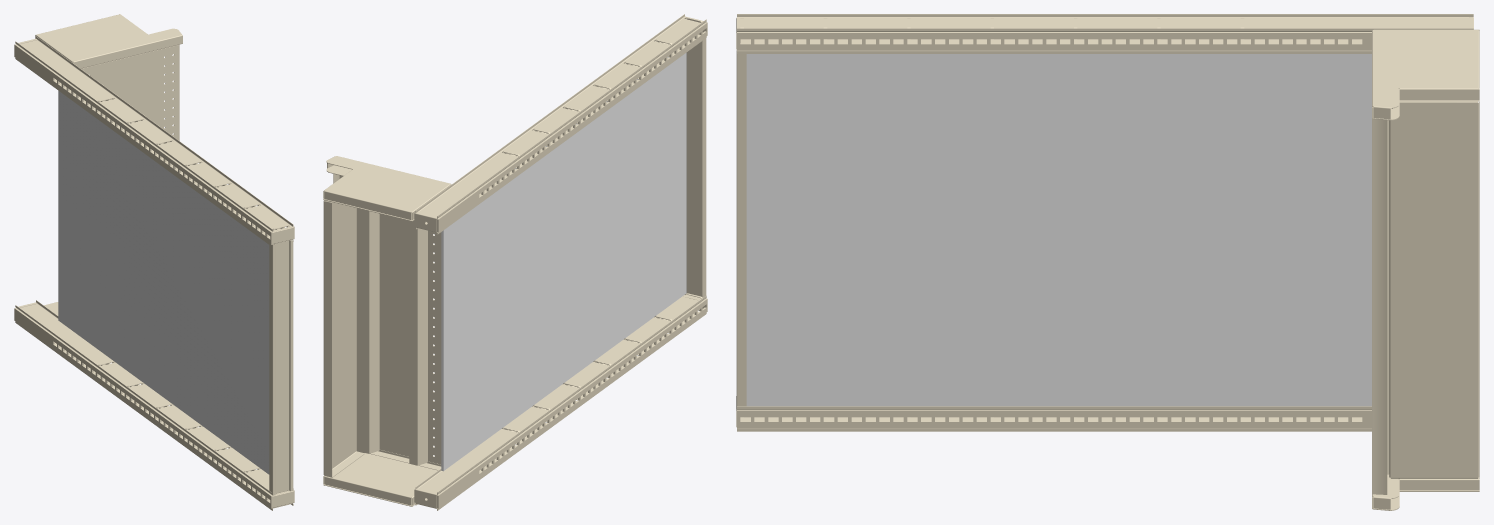
The model's file is MODULAR-UNIT.glb.
The picture shows the model from 3 angles, left to right: view 1: azimuth 30°, elevation 25°; view 2: azimuth 150°, elevation 25°; view 3: azimuth 270°, elevation 25°; orthographic projection. The views are drawn at different scales.
Visible parts, largest first — view 1: Solid1 (×5), Solid2 (×2), Solid3; view 2: Solid1 (×8), Solid3 (×2), Solid2 (×2); view 3: Solid1 (×7), Solid3 (×2), Solid2 (×2).
Part boxes in pixels (left/top/right/bottom): Solid1 (×5): left=14, top=14, right=292, bottom=508; Solid2 (×2): left=15, top=36, right=293, bottom=510; Solid3: left=269, top=240, right=293, bottom=495; Solid1 (×8): left=323, top=22, right=707, bottom=508; Solid3 (×2): left=323, top=34, right=706, bottom=477; Solid2 (×2): left=415, top=14, right=706, bottom=510; Solid1 (×7): left=737, top=29, right=1479, bottom=510; Solid3 (×2): left=736, top=39, right=1479, bottom=478; Solid2 (×2): left=737, top=14, right=1473, bottom=431.
Size of the model in its own units: 0.4096 by 0.8128 by 1.36.
Materials: 2 (1 with a texture image).
